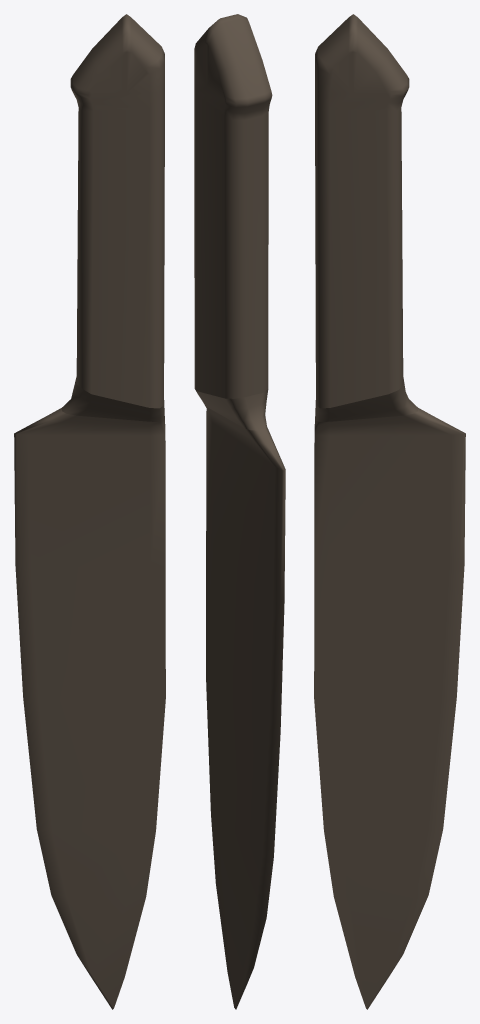
The model's file is Faca.fbx.
3 renders of one model, left to right at view 1: azimuth 90°, elevation 25°; view 2: azimuth 210°, elevation 25°; view 3: azimuth 270°, elevation 25°, orthographic.
Parts seen in each view (by area): view 1: Lamina, Cabo; view 2: Lamina, Cabo; view 3: Lamina, Cabo.
Boxes of the visible parts, box(x1,y1,x2,y2) form: Lamina: box(14, 408, 165, 1009); Cabo: box(62, 14, 164, 421); Lamina: box(205, 405, 285, 1009); Cabo: box(194, 14, 272, 430); Lamina: box(314, 408, 465, 1009); Cabo: box(315, 14, 417, 421).
Size of the model in its own units: 0.1297 by 2.81 by 0.3899.
